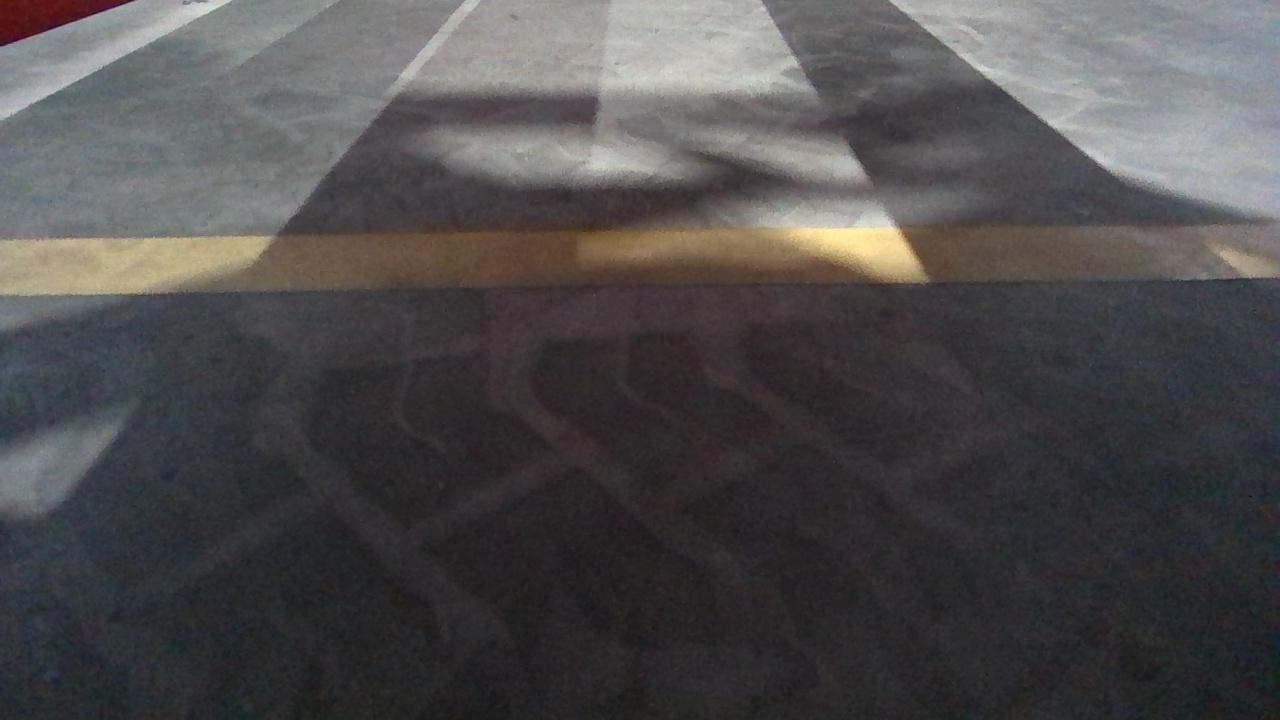yellow_line: (2, 221, 1280, 295)
